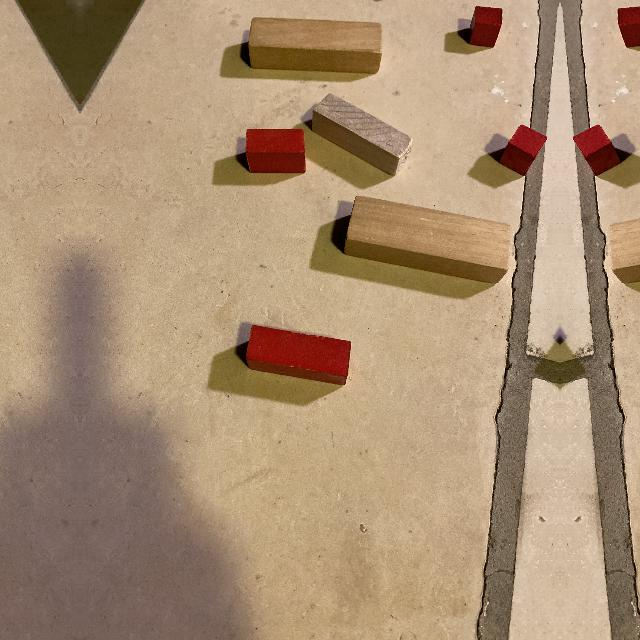block: (311, 92, 414, 176)
jenga: (342, 196, 510, 285), (246, 16, 383, 73), (469, 6, 503, 48), (617, 7, 640, 48)
red block: (245, 324, 352, 385), (247, 130, 305, 172)
red cube: (500, 125, 548, 176), (572, 125, 620, 176)
